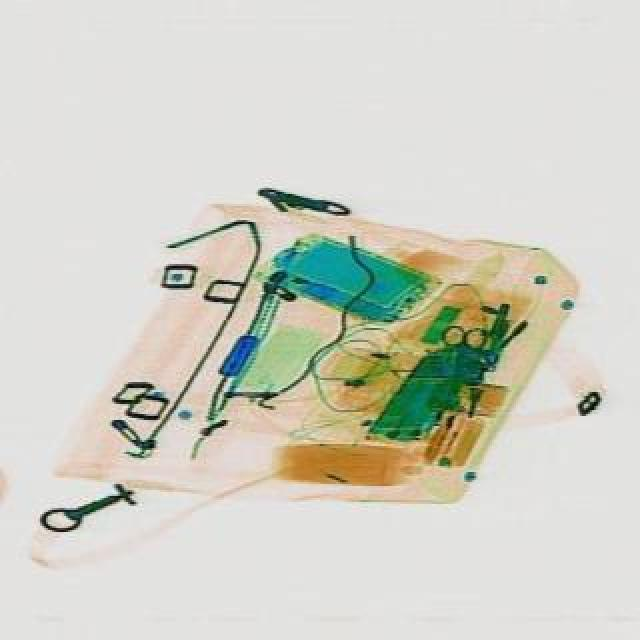pliers: (428, 322, 484, 394)
